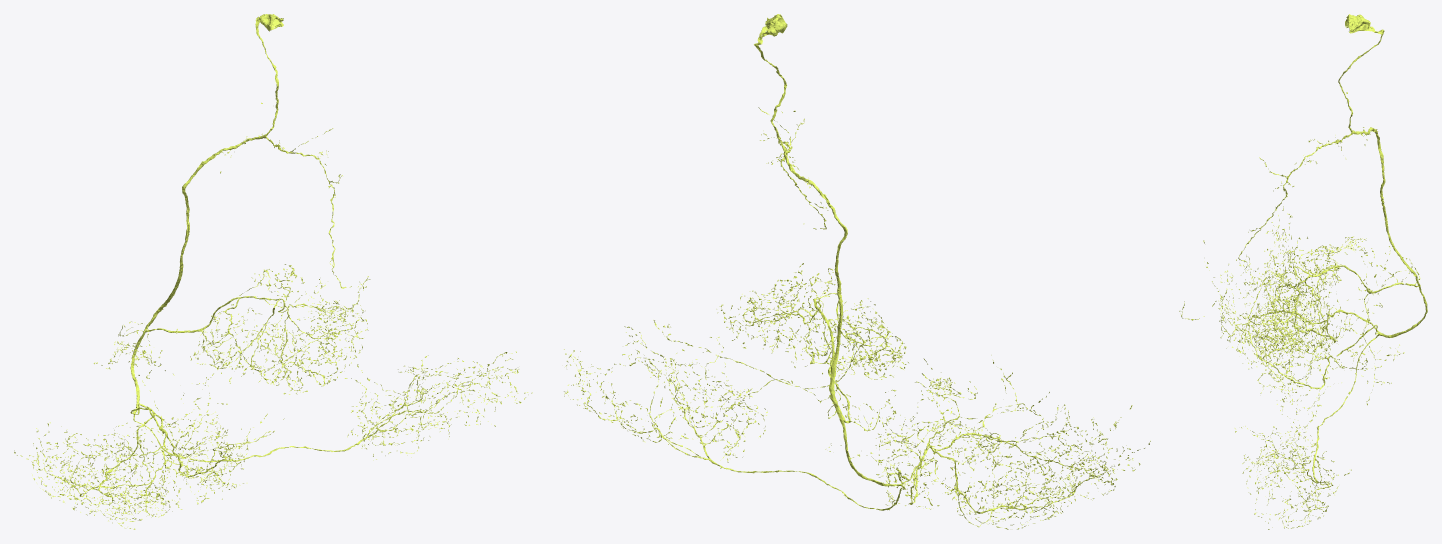
The model's file is VFB_jrmc1nfv.glb.
3 views of the same model, side by side, from view 1: azimuth 30°, elevation 25°; view 2: azimuth 150°, elevation 25°; view 3: azimuth 270°, elevation 25° (orthographic). The views are drawn at different scales.
Parts seen in each view (by area): view 1: VFB_jrmc1nfv; view 2: VFB_jrmc1nfv; view 3: VFB_jrmc1nfv.
Boxes of the visible parts, x1,y1,x2,y2 form: VFB_jrmc1nfv: [14, 14, 532, 529]; VFB_jrmc1nfv: [564, 14, 1150, 529]; VFB_jrmc1nfv: [1179, 14, 1427, 529].
Bounding box in the file's own units: 0.2885 × 0.2373 × 0.1207.
